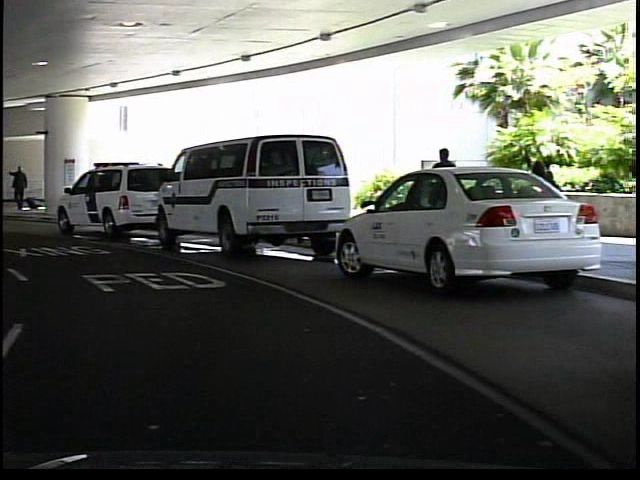person: (425, 142, 457, 248), (4, 155, 31, 214), (525, 152, 558, 199)
